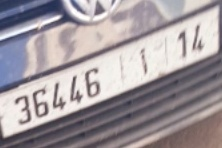1: (176, 25, 191, 58)
3: (11, 94, 33, 126)
4: (192, 19, 207, 54), (51, 80, 66, 112), (69, 75, 84, 104)
6: (83, 65, 104, 99), (32, 86, 49, 122)
a: (138, 43, 150, 78)
